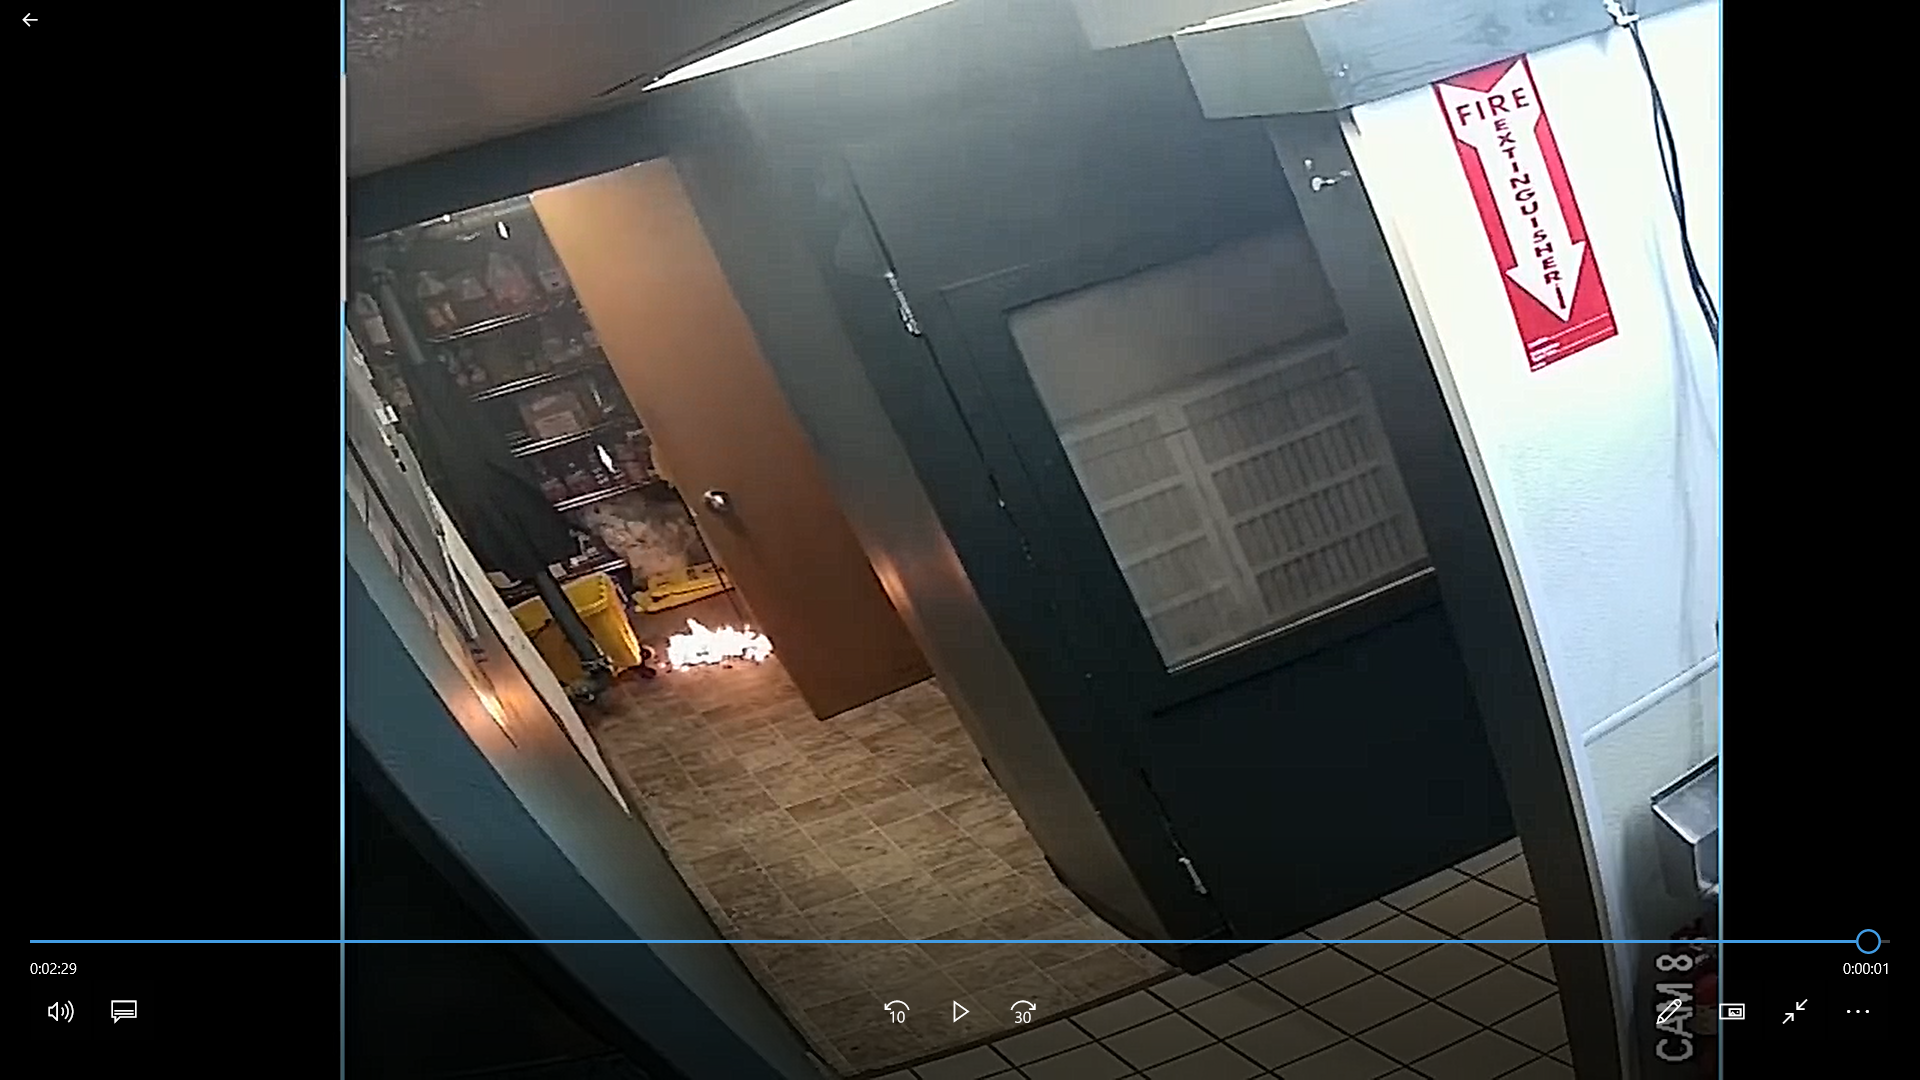fire: (659, 615, 794, 674)
